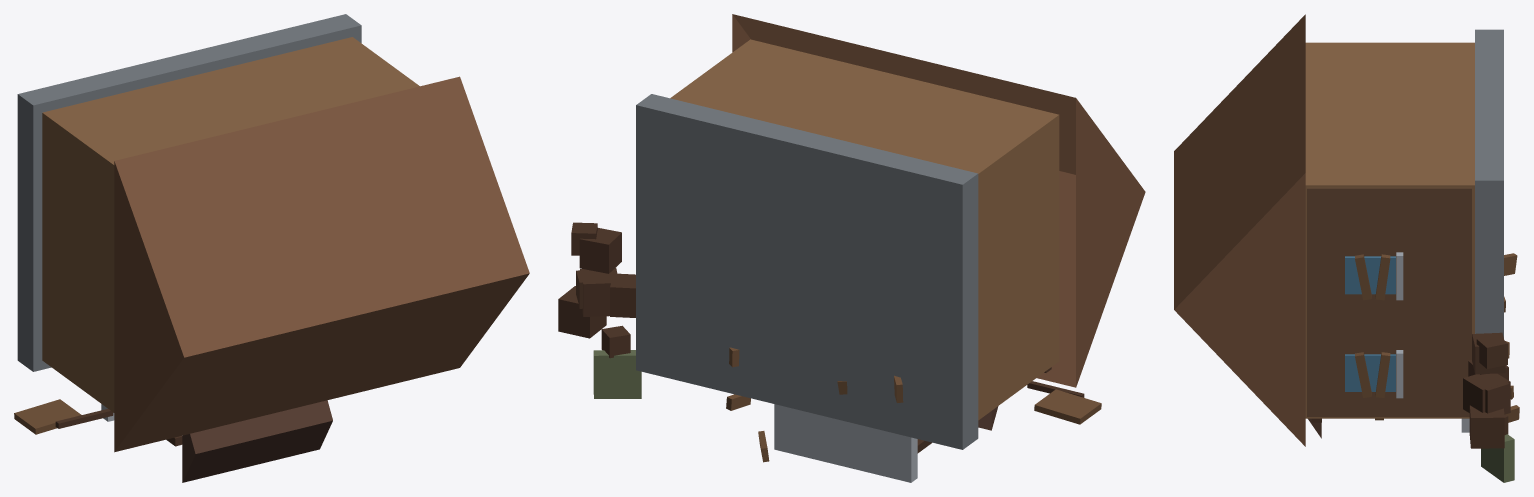
Rendered from worldforge_building_43027.obj.
3 views of the same model, side by side, from view 1: azimuth 30°, elevation 25°; view 2: azimuth 150°, elevation 25°; view 3: azimuth 270°, elevation 25° (orthographic). The views are drawn at different scales.
Visible parts, largest first — view 1: mainRoof, walls, foundation, porchRoof, sign; view 2: foundation, walls, mainRoof, porchDeck, deadGrowth, crate_1, sign, crate_4, crate_0, crate_6, crate_5; view 3: mainRoof, rightWallTone, walls, foundation, crate_4, window_3, window_2, crate_0, deadGrowth, crate_2, crate_3, crate_1 (+6 smaller).
Part boxes in pixels (box(x1,y1,x2,y2)): mainRoof: box(114, 76, 529, 452); walls: box(42, 37, 419, 412); foundation: box(17, 14, 361, 371); porchRoof: box(182, 400, 332, 482); sign: box(14, 399, 81, 434); foundation: box(636, 94, 978, 449); walls: box(670, 39, 1059, 420); mainRoof: box(732, 14, 1145, 387); porchDeck: box(774, 404, 917, 482); deadGrowth: box(593, 350, 641, 398); crate_1: box(579, 228, 621, 273); sign: box(1034, 389, 1101, 424); crate_4: box(558, 286, 606, 338); crate_0: box(580, 267, 617, 316); crate_6: box(610, 273, 635, 317); crate_5: box(601, 325, 630, 358); mainRoof: box(1174, 14, 1305, 446); rightWallTone: box(1307, 187, 1471, 416); walls: box(1305, 42, 1474, 418); foundation: box(1475, 29, 1503, 337); crate_4: box(1469, 405, 1504, 448); window_3: box(1345, 256, 1395, 294); window_2: box(1345, 354, 1395, 391); crate_0: box(1463, 373, 1510, 414); deadGrowth: box(1481, 434, 1514, 482); crate_2: box(1476, 334, 1507, 368); crate_3: box(1485, 383, 1509, 413); crate_1: box(1472, 332, 1505, 374).
Bounding box in the file's own units: 7.32 × 5.18 × 4.97.
